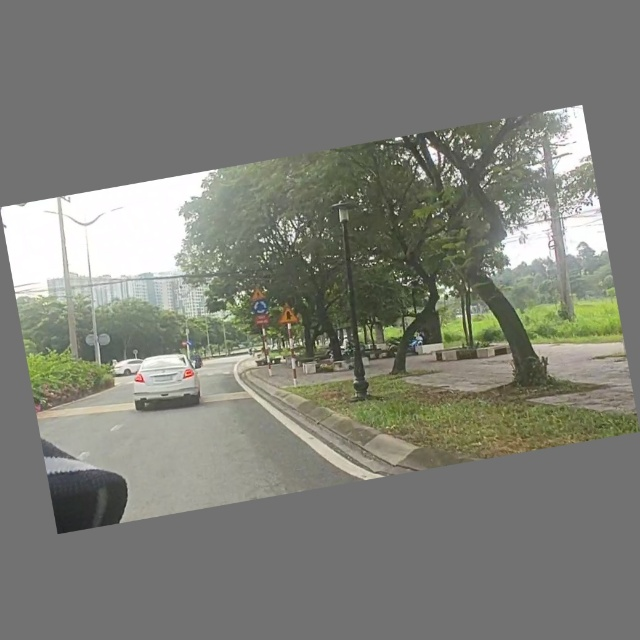P.102: (180, 340, 187, 347)
R.302a: (186, 339, 195, 348)
R.303: (251, 300, 271, 316)
W.207: (277, 305, 300, 327)
W.224: (248, 286, 267, 303)
